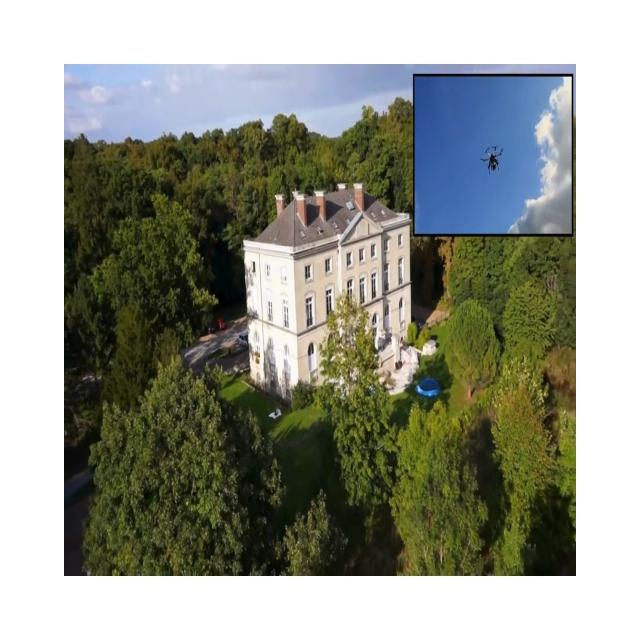drone: (481, 144, 503, 174)
